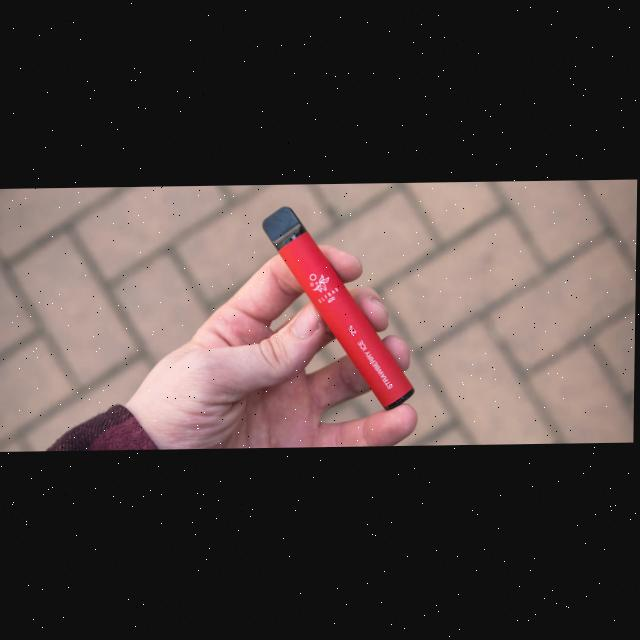vape: (260, 204, 419, 414)
